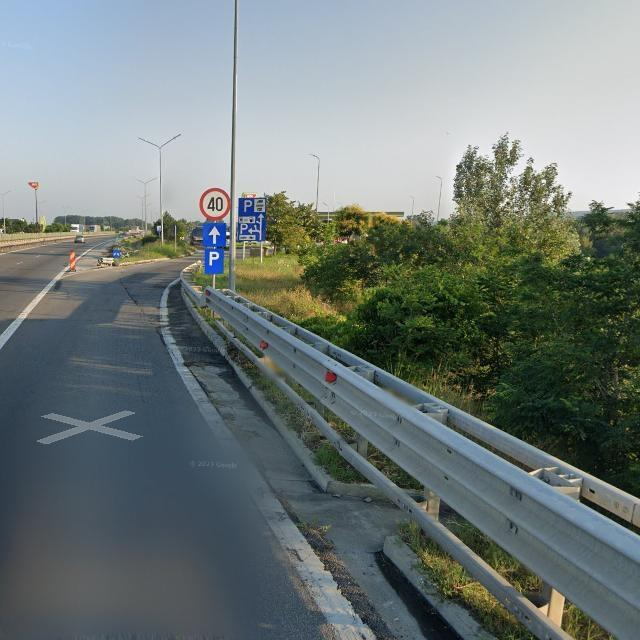forb_speed_over_40: (200, 188, 229, 221)
